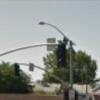traffic lights: (57, 42, 66, 69), (12, 62, 20, 78)
